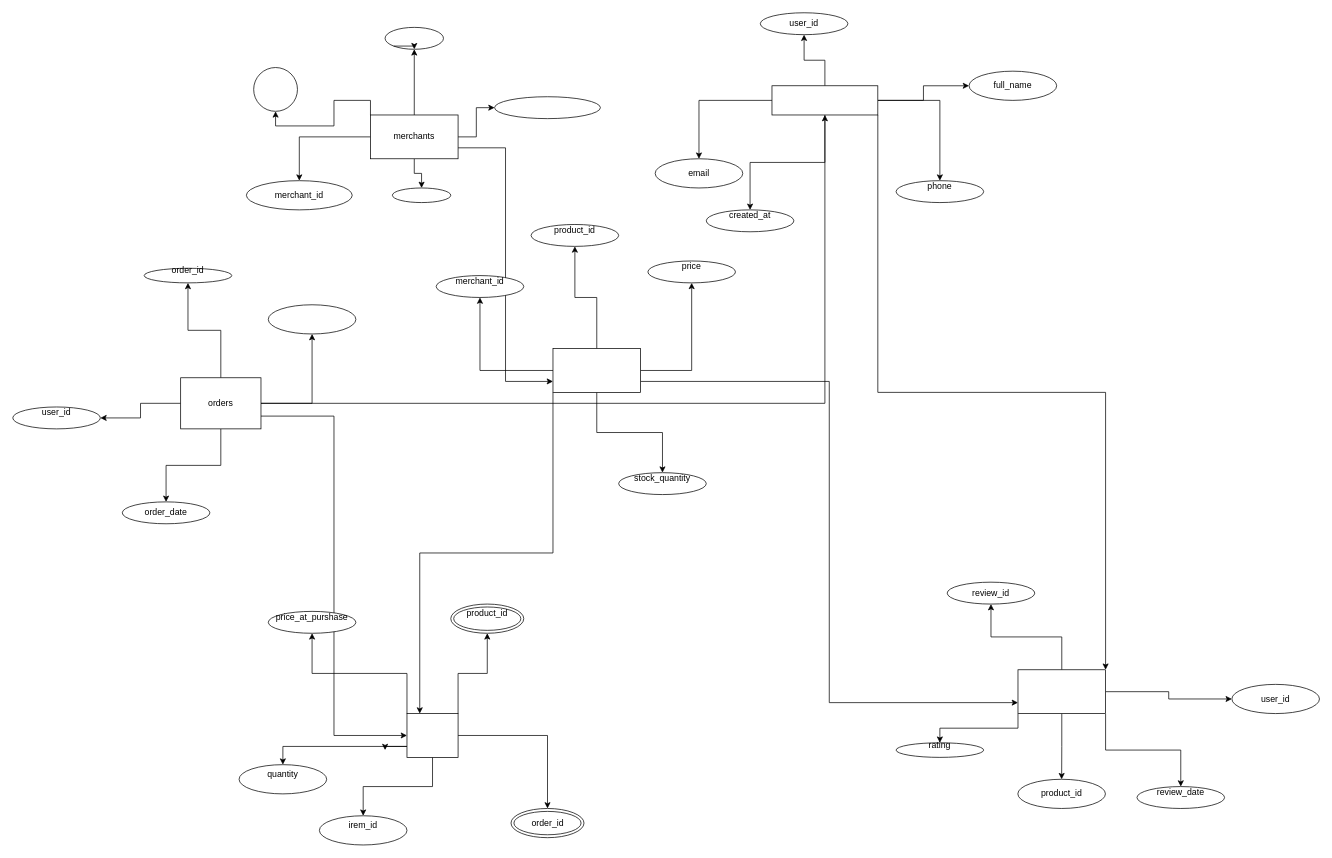
This 1332x858 diagram has some shape labels left out. Here are the shapes that lost their labels. From the top down, the centre of each, then its label:
the point at 413,38: public
the point at 275,89: merchant
the point at 547,107: bin_number
the point at 824,100: users
the point at 421,195: shop_name
the point at 312,319: status
the point at 596,370: products
the point at 1061,691: reviews
the point at 432,735: order_items
